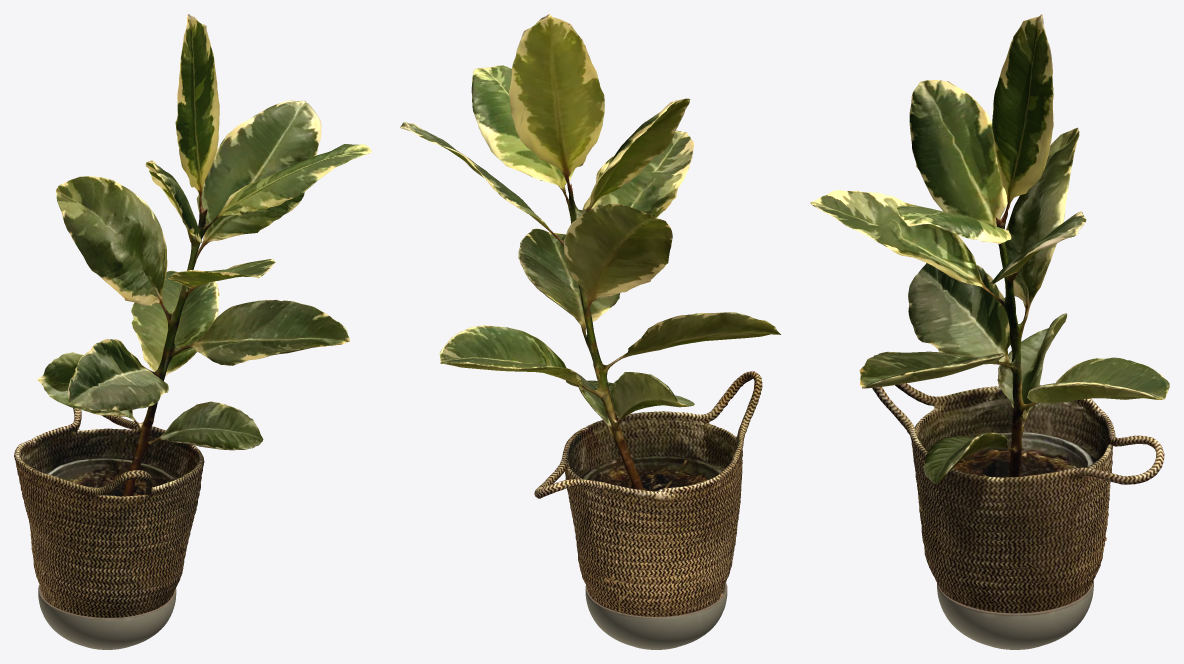
Rendered from fig.glb.
3 views of the same model, side by side, from view 1: azimuth 30°, elevation 25°; view 2: azimuth 150°, elevation 25°; view 3: azimuth 270°, elevation 25° (orthographic). The views are drawn at different scales.
Parts seen in each view (by area): view 1: Polygon_1, Soup__Cereal_Bowl; view 2: Polygon_1, Soup__Cereal_Bowl; view 3: Polygon_1, Soup__Cereal_Bowl.
Part boxes in pixels (box(x1,y1,x2,y2)): Polygon_1: box(14, 14, 371, 617); Soup__Cereal_Bowl: box(38, 585, 176, 649); Polygon_1: box(400, 14, 780, 616); Soup__Cereal_Bowl: box(585, 583, 727, 649); Polygon_1: box(810, 14, 1169, 613); Soup__Cereal_Bowl: box(937, 581, 1093, 649).
Bounding box in the file's own units: 0.5797 × 1.07 × 0.5178.
Materials: 2 (2 with a texture image).
